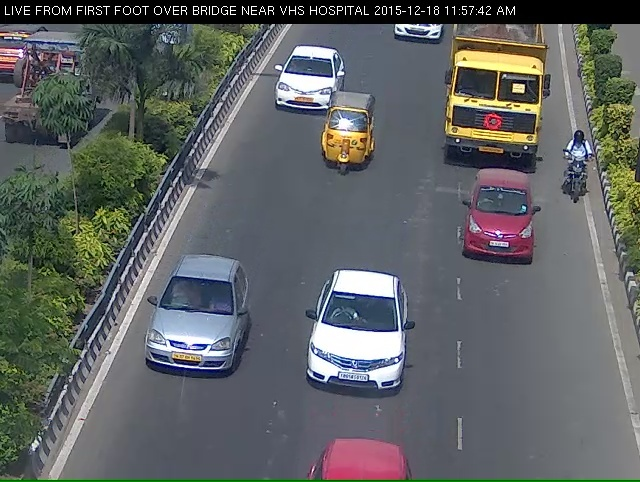Auto: (317, 97, 378, 187)
Bus: (439, 18, 541, 168)
Car: (144, 266, 239, 392), (304, 293, 405, 410), (459, 181, 534, 274), (275, 51, 334, 116), (388, 21, 441, 54)
Person: (565, 143, 599, 214)
